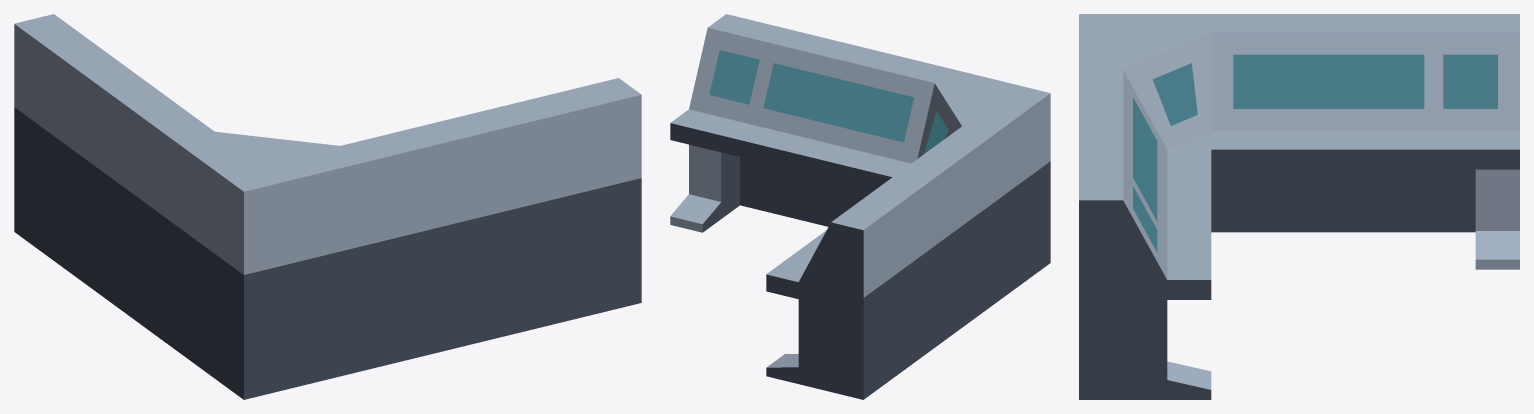
The model's file is desk_computerCorner.glb.
3 views of the same model, side by side, from view 1: azimuth 30°, elevation 25°; view 2: azimuth 150°, elevation 25°; view 3: azimuth 270°, elevation 25° (orthographic). The views are drawn at different scales.
Parts seen in each view (by area): view 1: desk_computerCorner; view 2: desk_computerCorner; view 3: desk_computerCorner.
Part boxes in pixels (x1=…): desk_computerCorner: x1=14, y1=14, x2=641, y2=399; desk_computerCorner: x1=670, y1=14, x2=1050, y2=399; desk_computerCorner: x1=1079, y1=14, x2=1519, y2=399.
Bounding box in the file's own units: 0.75 × 0.375 × 0.75.
